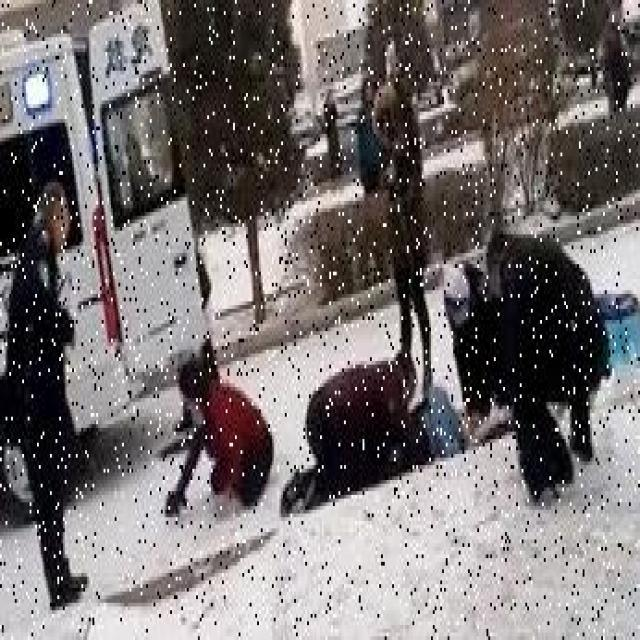fall: (278, 354, 418, 509), (167, 346, 268, 521)
